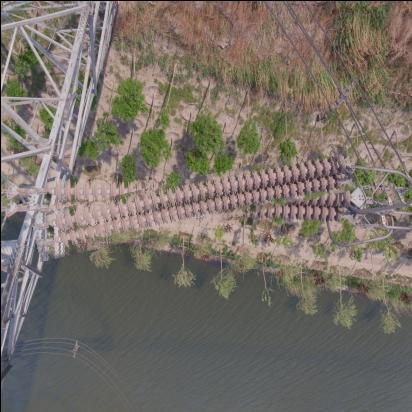insulator: (31, 161, 356, 244)
